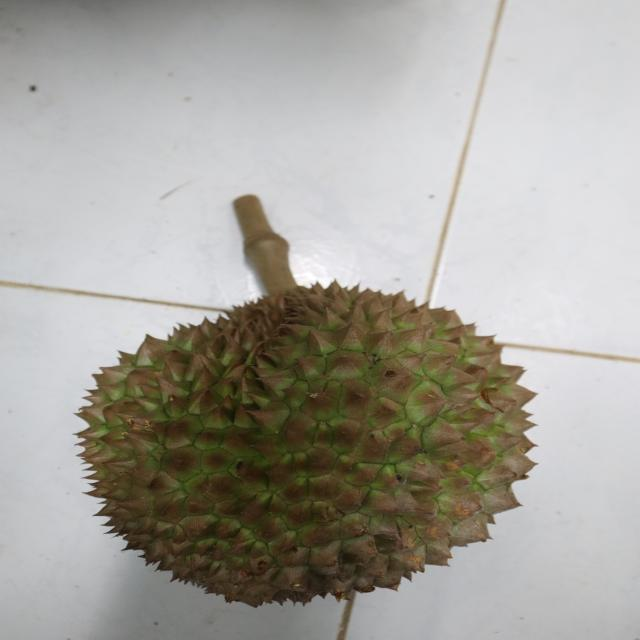mature: (77, 274, 541, 613)
